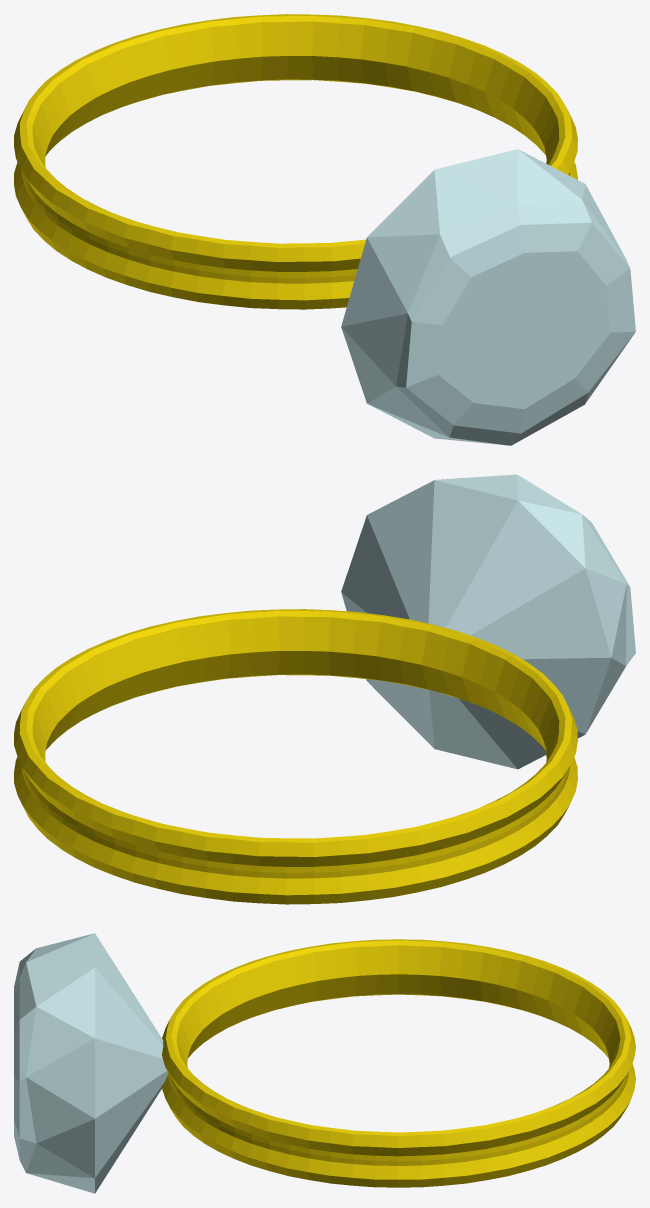
Rendered from Wedding Ring.fbx.
3 renders of one model, top to bottom at view 1: azimuth 30°, elevation 25°; view 2: azimuth 150°, elevation 25°; view 3: azimuth 270°, elevation 25°, orthographic. The views are drawn at different scales.
Visible parts, largest first — view 1: Circle; view 2: Circle; view 3: Circle.
Part boxes in pixels (left/top/right/bottom): Circle: left=14, top=14, right=635, bottom=445; Circle: left=14, top=474, right=635, bottom=904; Circle: left=14, top=933, right=635, bottom=1193.
Size of the model in its own units: 204 by 107 by 267.
